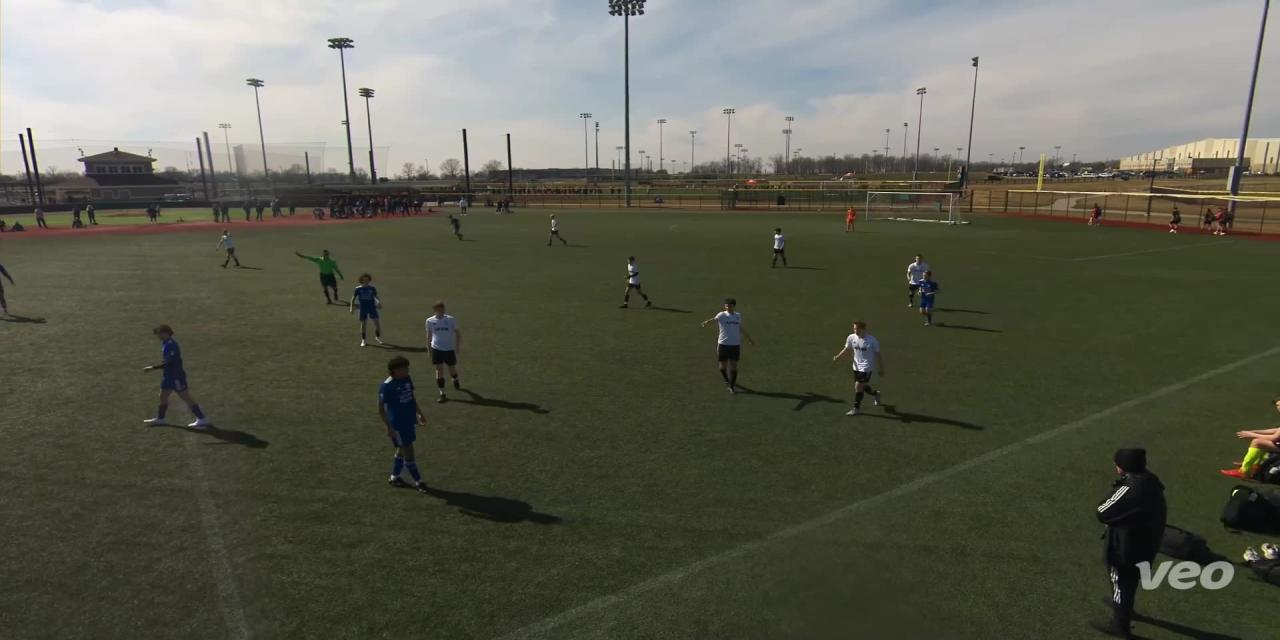goal: (862, 184, 976, 238)
